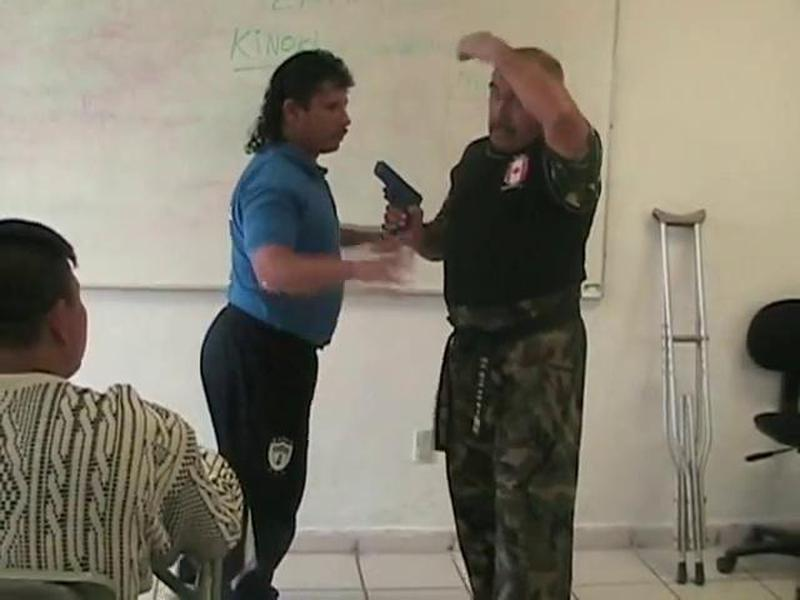Pistola: (364, 154, 441, 253)
